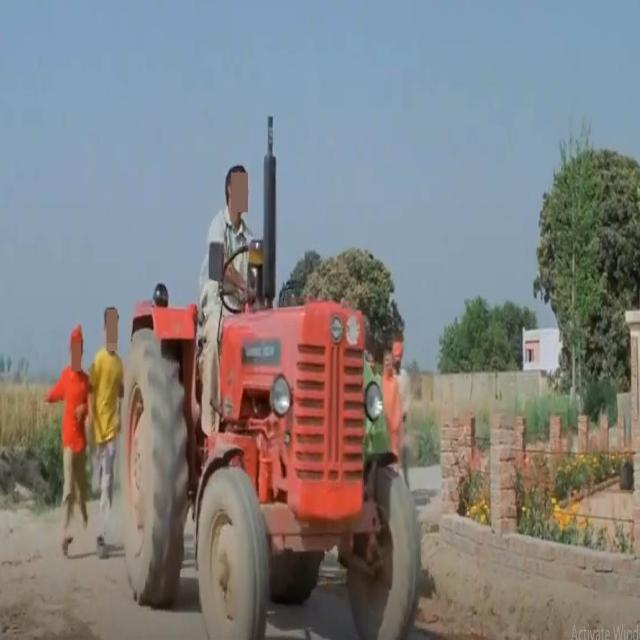Tratores - v5 YOLO V8L 2024-11-13: (118, 106, 425, 635)
